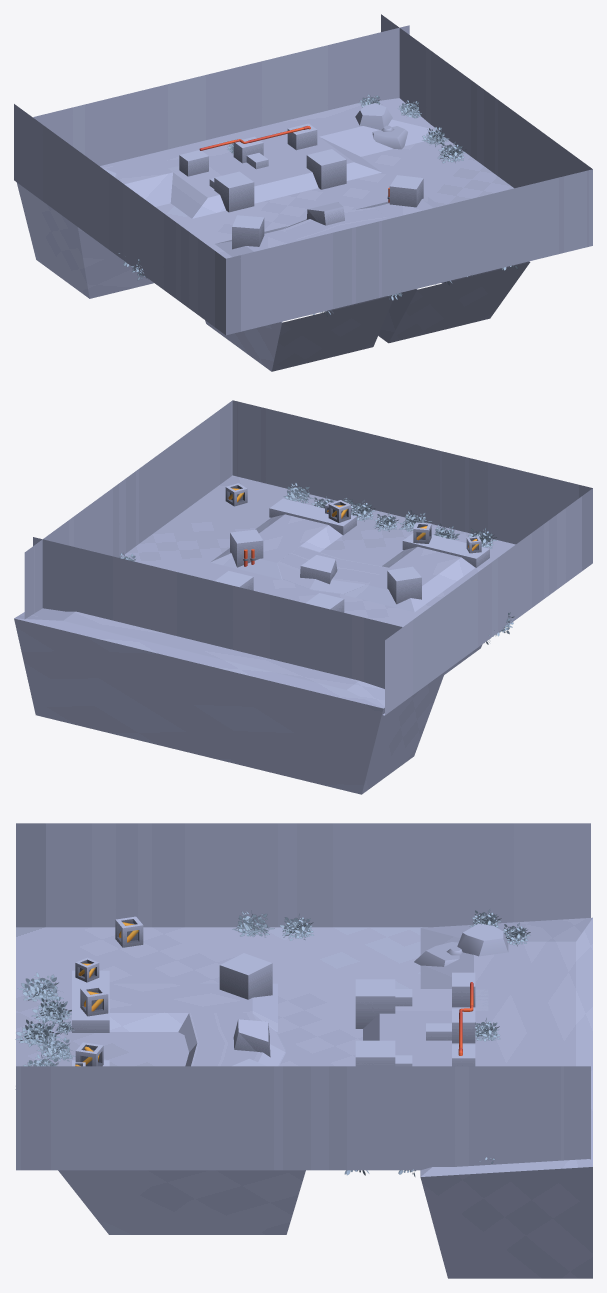
Rendered from prototype.glb.
The picture shows the model from 3 angles, top to bottom: view 1: azimuth 30°, elevation 25°; view 2: azimuth 150°, elevation 25°; view 3: azimuth 270°, elevation 25°; orthographic projection. The views are drawn at different scales.
Parts seen in each view (by area): view 1: barrier, Cube, rock-small.001, shape-cube, shape-cube.001, shape-cube.005, shape-cube.006, shape-cube.010, shape-cube.011, shape-cube.002, shape-cube.013; view 2: barrier, Cube, shape-cube.007, shape-cube.008, shape-cube.006, shape-cube.005, shape-cube.010; view 3: barrier, Cube, rock-small, shape-cube.006, shape-cube, shape-cube.008, shape-cube.010, shape-cube.001, image-removebg-preview(13).009, crate.004, shape-cube.011, crate (+5 smaller).
Boxes of the visible parts, x1=… form: barrier: x1=14, y1=14, x2=592, y2=335; Cube: x1=16, y1=98, x2=530, y2=371; rock-small.001: x1=355, y1=103, x2=407, y2=149; shape-cube: x1=214, y1=171, x2=254, y2=212; shape-cube.001: x1=306, y1=149, x2=346, y2=189; shape-cube.005: x1=389, y1=175, x2=423, y2=207; shape-cube.006: x1=232, y1=215, x2=264, y2=249; shape-cube.010: x1=306, y1=202, x2=344, y2=225; shape-cube.011: x1=179, y1=150, x2=208, y2=176; shape-cube.002: x1=287, y1=123, x2=317, y2=150; shape-cube.013: x1=233, y1=136, x2=263, y2=163; barrier: x1=24, y1=400, x2=592, y2=715; Cube: x1=14, y1=475, x2=515, y2=794; shape-cube.007: x1=269, y1=498, x2=356, y2=535; shape-cube.008: x1=402, y1=533, x2=489, y2=567; shape-cube.006: x1=387, y1=566, x2=421, y2=604; shape-cube.005: x1=230, y1=529, x2=263, y2=567; shape-cube.010: x1=300, y1=555, x2=337, y2=584; barrier: x1=16, y1=823, x2=590, y2=1170; Cube: x1=16, y1=917, x2=592, y2=1278; rock-small: x1=414, y1=923, x2=508, y2=966; shape-cube.006: x1=219, y1=953, x2=272, y2=999; shape-cube: x1=355, y1=979, x2=395, y2=1028; shape-cube.008: x1=72, y1=970, x2=109, y2=1032; shape-cube.010: x1=233, y1=1019, x2=270, y2=1057; shape-cube.001: x1=355, y1=1040, x2=395, y2=1066; image-removebg-preview(13).009: x1=17, y1=972, x2=63, y2=1003; crate.004: x1=115, y1=916, x2=143, y2=947; shape-cube.011: x1=452, y1=972, x2=475, y2=1007; crate: x1=80, y1=985, x2=108, y2=1016.
Bounding box in the file's own units: 2.09 × 0.8451 × 2.01.
7 materials, 7 textured.
